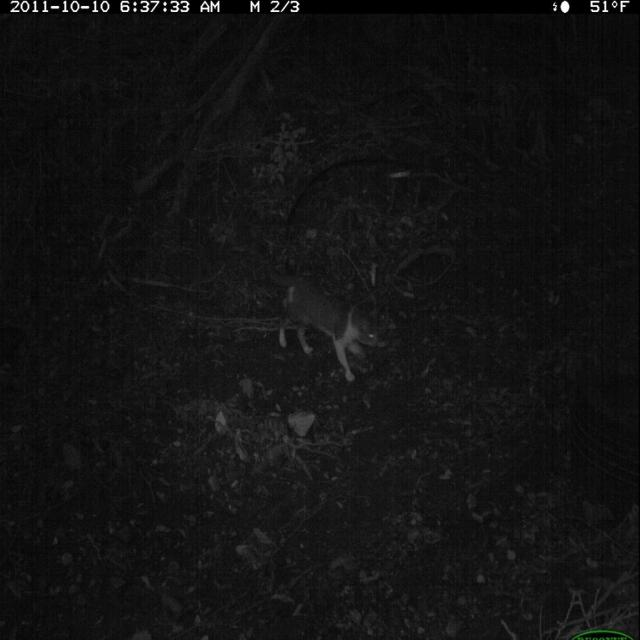cat: (257, 254, 391, 384)
